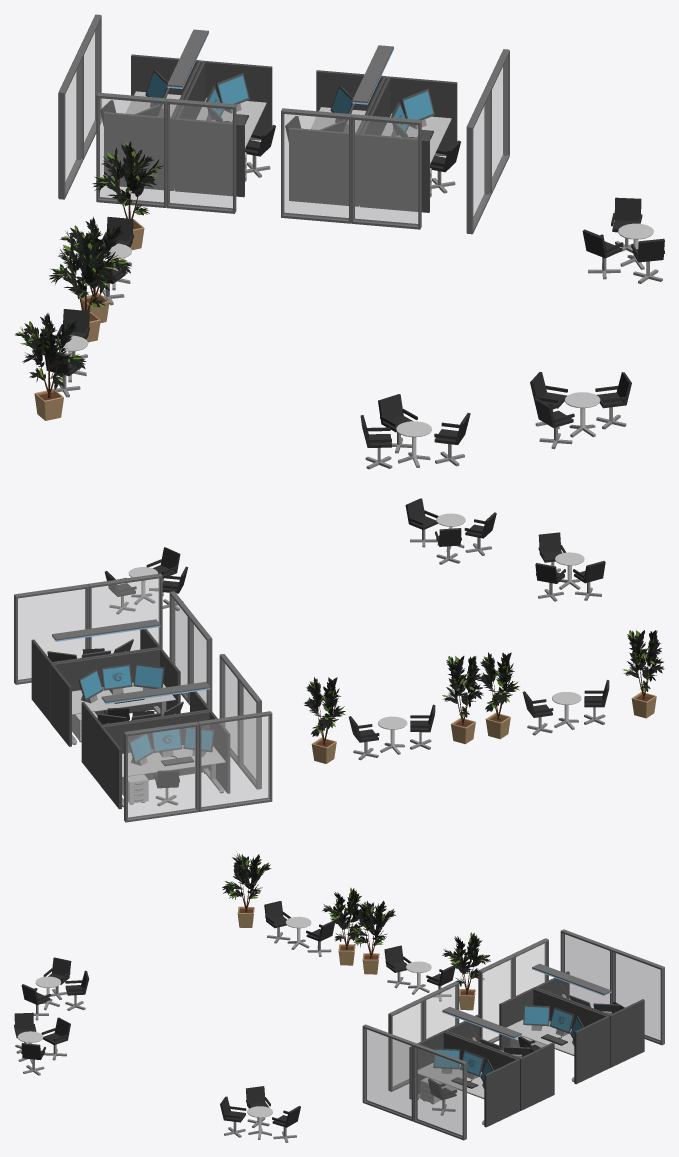
Rendered from d-roomcomp-r6-server-in.glb.
3 views of the same model, one above another, from view 1: azimuth 30°, elevation 25°; view 2: azimuth 150°, elevation 25°; view 3: azimuth 270°, elevation 25° (orthographic). The views are drawn at different scales.
Visible parts, largest first — view 1: d-roomcomp-r6-server; view 2: d-roomcomp-r6-server; view 3: d-roomcomp-r6-server.
Boxes of the visible parts, left/top/right/bottom form: d-roomcomp-r6-server: left=14, top=14, right=664, bottom=469; d-roomcomp-r6-server: left=14, top=498, right=664, bottom=822; d-roomcomp-r6-server: left=14, top=851, right=664, bottom=1142.
Size of the model in its own units: 21.09 by 3.33 by 25.43.
4 materials, 3 textured.
